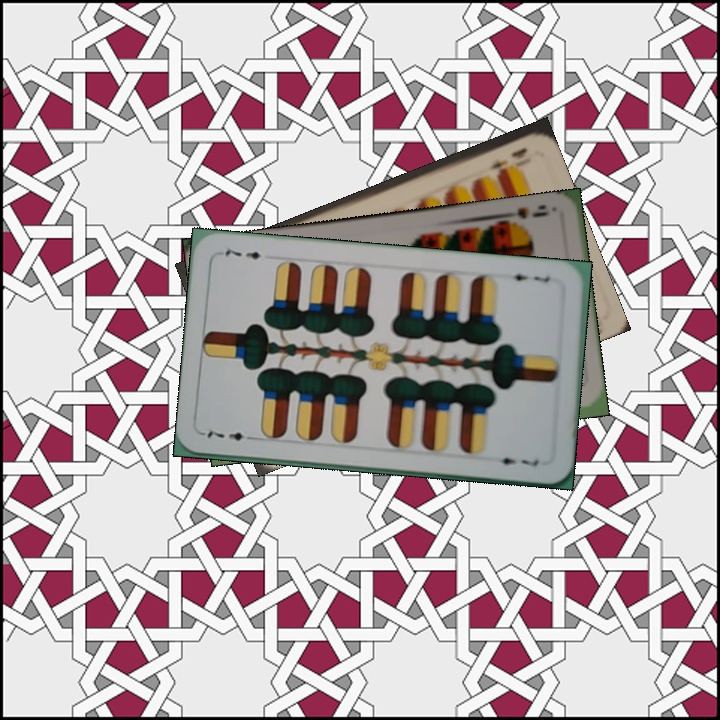E10: (484, 143, 531, 173)
E7: (200, 426, 259, 444), (504, 269, 553, 285)
S9: (497, 201, 556, 232)
